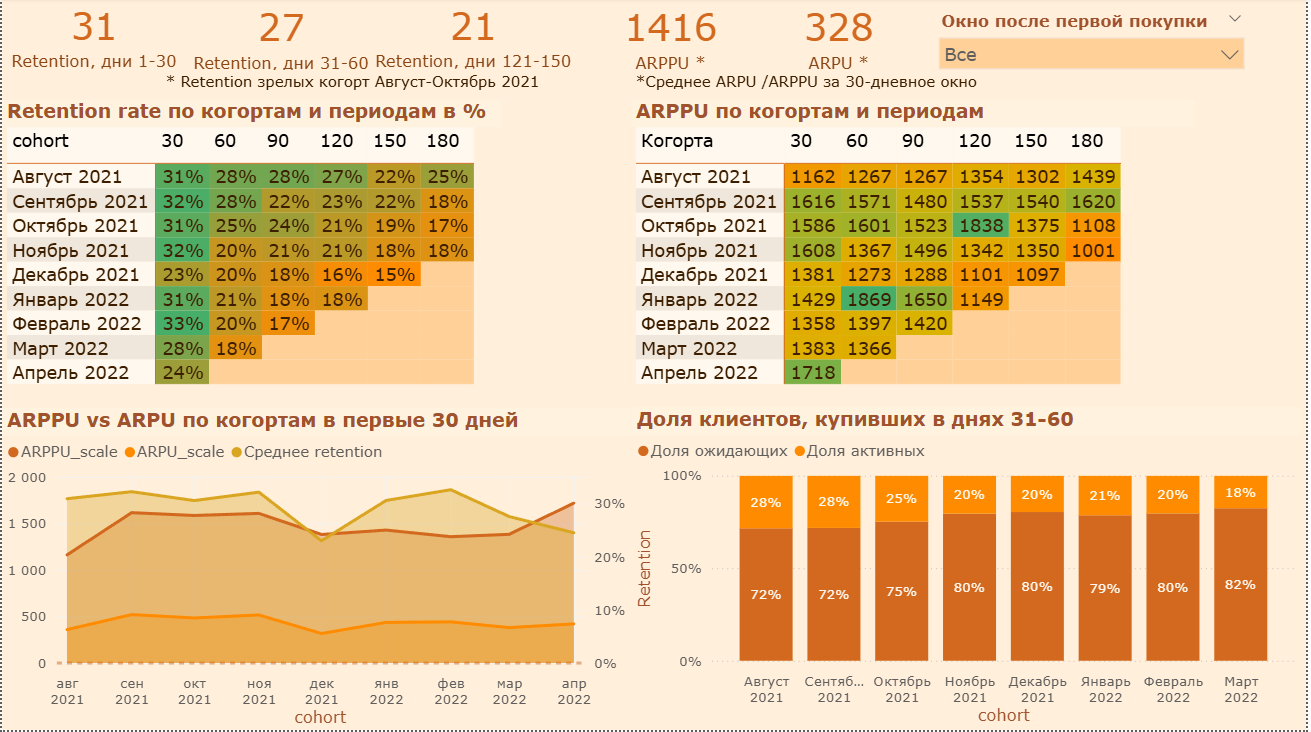

The page's visual inventory and layout, read from the dashboard file:
{"tool":"powerbi","page":{"name":"ARPPU","canvas":[1280,720],"ordinal":0},"visuals":[{"type":"lineChart","title":"ARPPU vs ARPU по когортам в первые 30 дней","fields":{"Y":["ARPPU_Cohorts.ARPPU_scale","ARPPU_Cohorts.ARPU_scale"],"Y2":["Avg(ARPPU_Cohorts.retention)"],"Category":["ARPPU_Cohorts.cohort"]},"box":[0,403.4,617.5,317],"z":0},{"type":"card","title":"Retention","fields":{"Values":["Avg(Retention_Cohorts.retention_actual)"]},"box":[0,0,181.1,75.5],"z":1000},{"type":"card","fields":{"Values":["Avg(ARPPU_Cohorts.arppu)"]},"box":[596.3,1.2,120.2,76.1],"z":2000},{"type":"card","fields":{"Values":["Avg(ARPPU_Cohorts.arpu)"]},"box":[766.9,1.2,109.2,76.1],"z":3000},{"type":"columnChart","title":"Доля клиентов, купивших в днях 31-60","fields":{"Category":["ARPPU_Cohorts.cohort"],"Y":["ARPPU_Cohorts.Unactive_users_share","ARPPU_Cohorts.Active_Users_share"]},"box":[618.2,402.5,656.6,315.9],"z":4000},{"type":"pivotTable","title":"ARPPU по когортам и периодам","fields":{"Rows":["ARPPU_Cohorts.cohort"],"Values":["Avg(ARPPU_Cohorts.arppu)"],"Columns":["ARPPU_Cohorts.day_k"]},"box":[617.2,100.6,553.4,312.9],"z":5000},{"type":"pivotTable","title":"Retention rate по когортам и периодам в %","fields":{"Columns":["ARPPU_Cohorts.day_k"],"Rows":["ARPPU_Cohorts.cohort"],"Values":["Sum(ARPPU_Cohorts.retention)"]},"box":[0,100.2,489.9,301.9],"z":6000},{"type":"slicer","fields":{"Values":["ARPPU_Cohorts.period"]},"box":[909.2,8.6,320.2,68.7],"z":7000},{"type":"card","title":"Retention","fields":{"Values":["Avg(Retention_Cohorts.retention_actual)"]},"box":[181.1,1.4,185.2,75.5],"z":8000},{"type":"card","title":"Retention","fields":{"Values":["Avg(Retention_Cohorts.retention_actual)"]},"box":[356.8,0,211.3,75.5],"z":9000},{"type":"textbox","box":[155.8,68.7,401.2,30.7],"z":10000},{"type":"textbox","box":[617.5,68.6,408.9,31.6],"z":11000}]}

Visuals, with their boxes in screenshot pixels (x1, y1, x2, y2), scaled from the page's 1280x720 canvas onto the 1311x732 screenshot:
"ARPPU vs ARPU по когортам в первые 30 дней" lineChart: (0,410,632,731)
"Retention" card: (0,0,185,77)
card - Avg(ARPPU_Cohorts.arppu): (611,1,734,79)
card - Avg(ARPPU_Cohorts.arpu): (785,1,897,79)
"Доля клиентов, купивших в днях 31-60" columnChart: (633,409,1306,730)
"ARPPU по когортам и периодам" pivotTable: (632,102,1199,420)
"Retention rate по когортам и периодам в %" pivotTable: (0,102,502,409)
slicer - ARPPU_Cohorts.period: (931,9,1259,79)
"Retention" card: (185,1,375,78)
"Retention" card: (365,0,582,77)
textbox: (160,70,570,101)
textbox: (632,70,1051,102)
